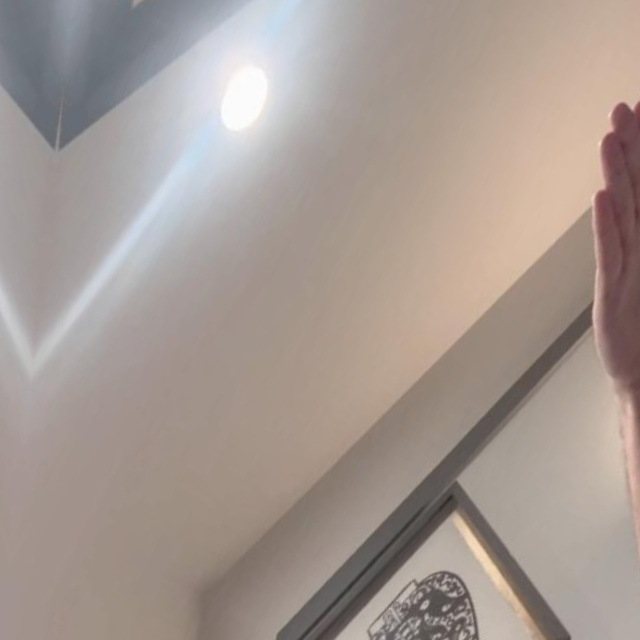Paper: (498, 63, 640, 410)
